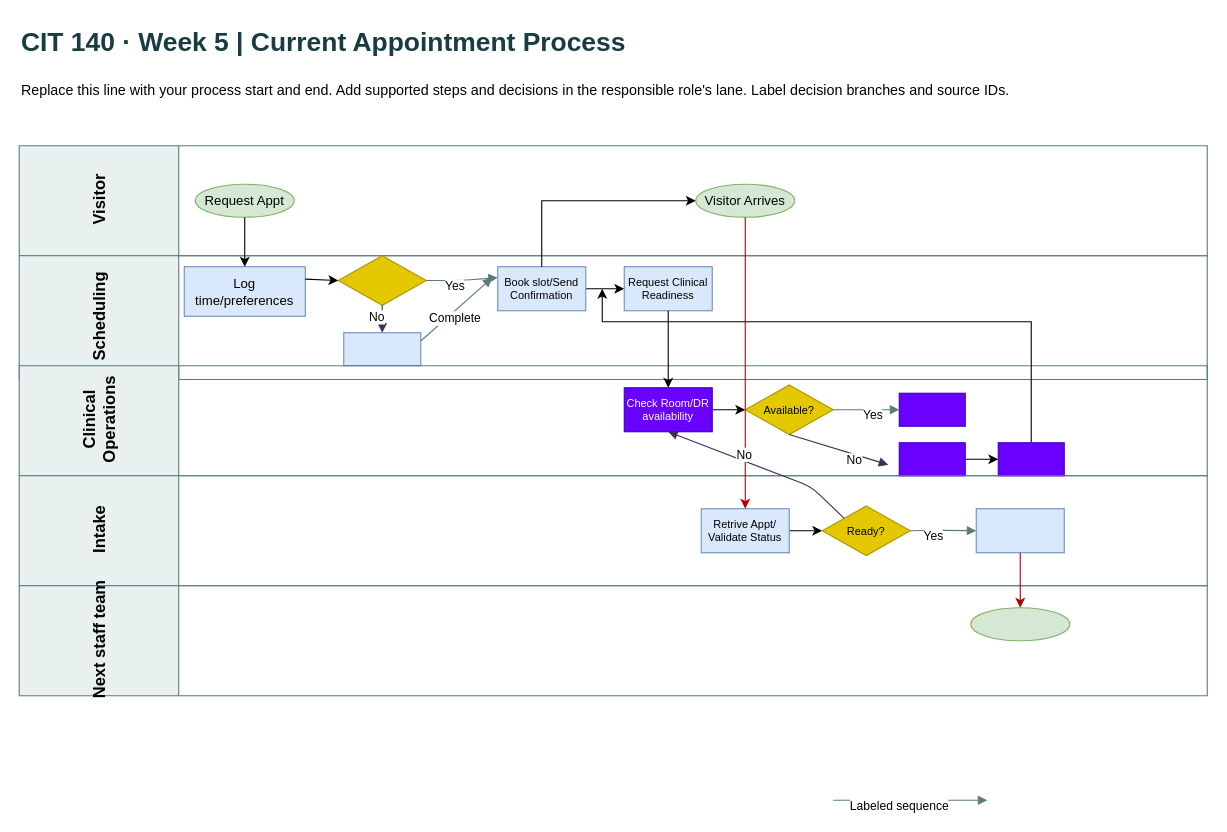
The diagram is 1227 pixels wide and 832 high, and some of its shapes have lost their labels. Each missing label, with the centre of its shape:
"Clarify details with visitor" belongs at (382,349).
"Confirm Appt preferences" belongs at (1019,530).
"Details complete?" belongs at (381,280).
"Keep room held" belongs at (931,459).
"Ready for Staff Team" belongs at (1020,624).
"Record ready" belongs at (931,409).
"Review Capacity" belongs at (1030,459).
